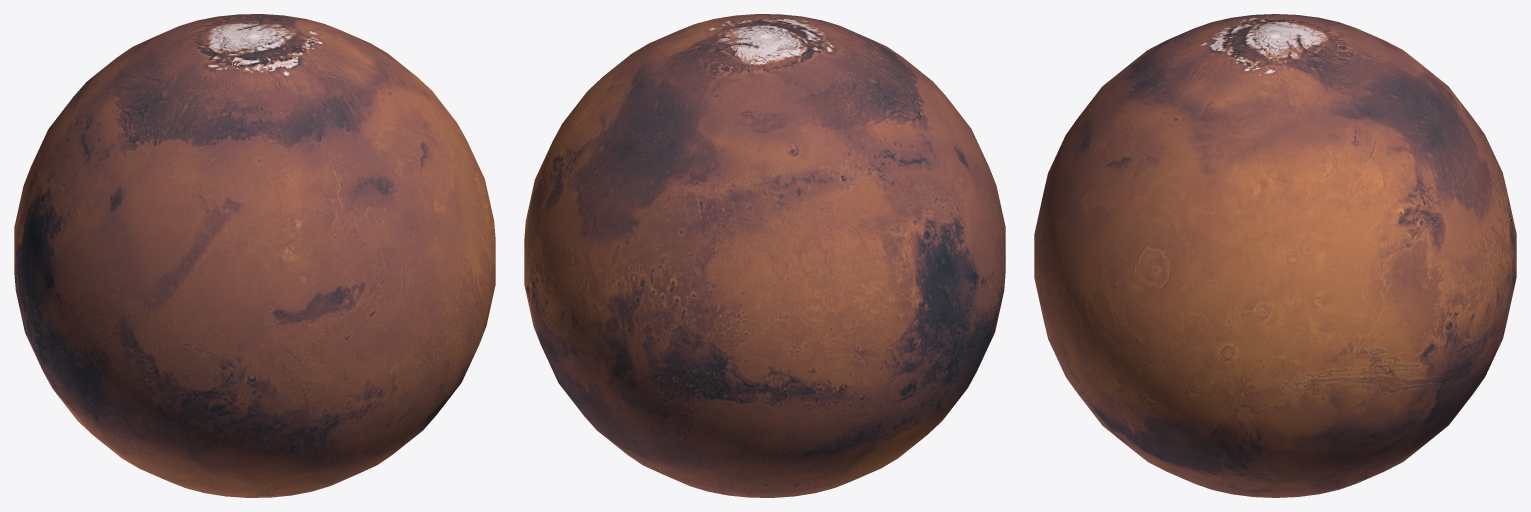
The model's file is mars.glb.
3 views of the same model, side by side, from view 1: azimuth 30°, elevation 25°; view 2: azimuth 150°, elevation 25°; view 3: azimuth 270°, elevation 25° (orthographic).
Parts seen in each view (by area): view 1: Mars_low; view 2: Mars_low; view 3: Mars_low.
Part boxes in pixels (x1,y1,x2,y2): Mars_low: (14, 14, 495, 497); Mars_low: (524, 14, 1005, 497); Mars_low: (1034, 14, 1516, 497).
Bounding box in the file's own units: 0.6336 × 0.6366 × 0.6336.
1 material, 1 textured.
